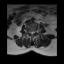CCS_stenosis: (31, 29, 33, 36)
LFS_normal: (34, 29, 36, 34)
LLS_normal: (33, 29, 34, 35)
RFS_normal: (28, 29, 30, 34)
RLS_normal: (30, 29, 31, 35)
